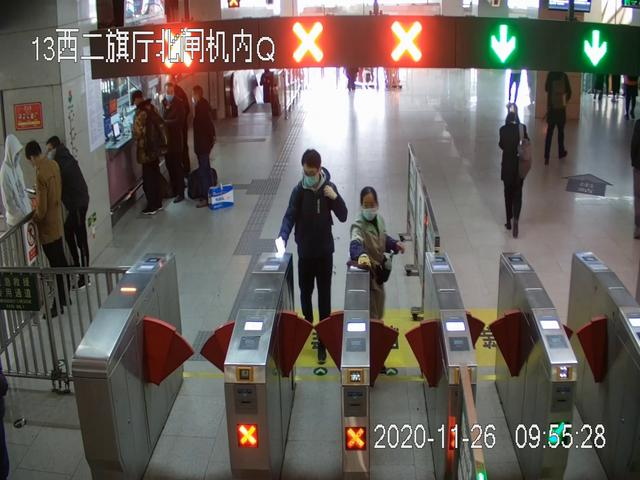person: (277, 148, 349, 366), (351, 186, 404, 350), (24, 140, 73, 316), (46, 135, 91, 288), (130, 88, 168, 215), (499, 101, 530, 238), (1, 134, 31, 269), (165, 86, 189, 203), (543, 68, 571, 165), (191, 83, 216, 188)
